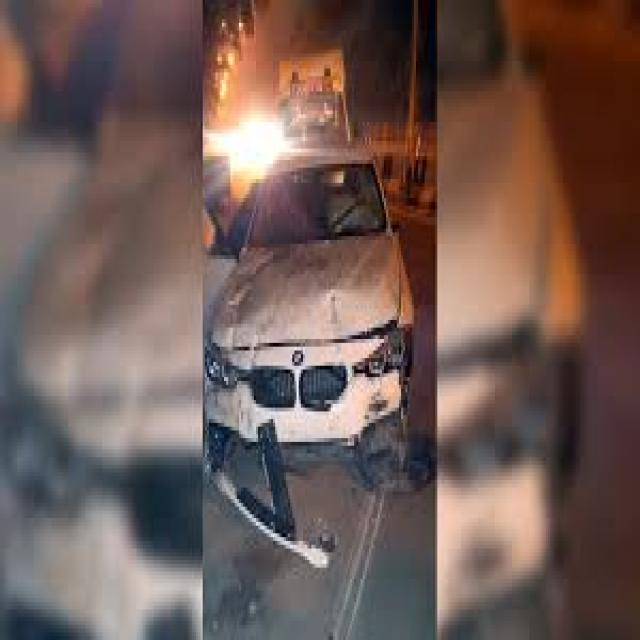car: (217, 145, 413, 459)
